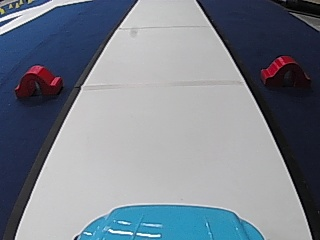bridge: (12, 62, 65, 100), (258, 52, 311, 88)
